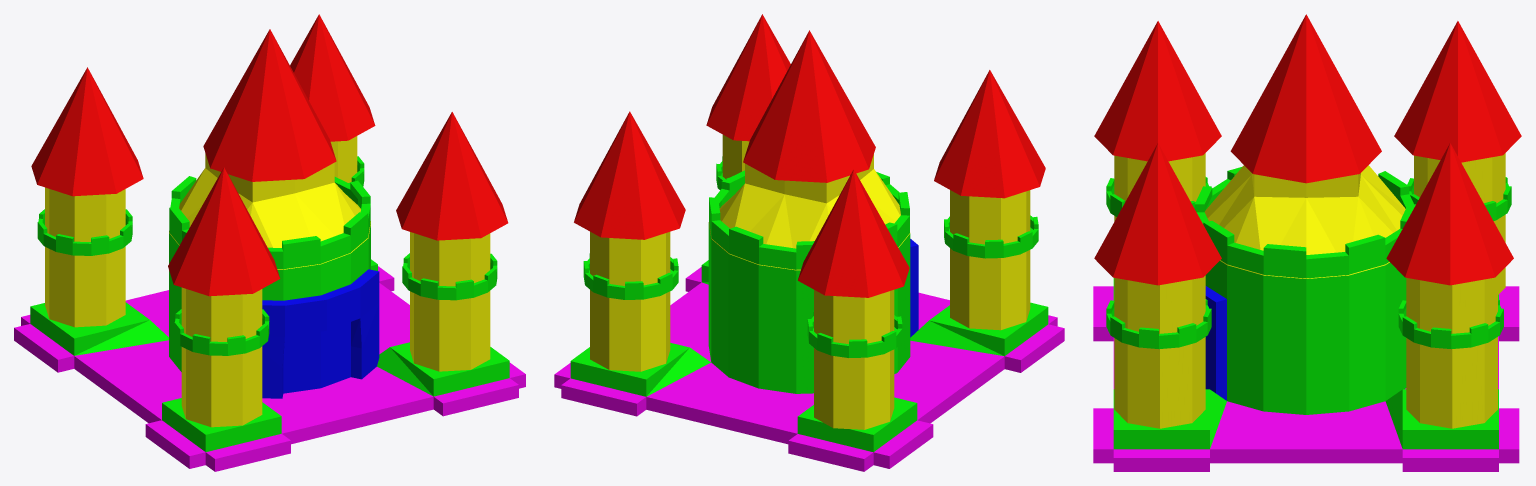
File: CastleV1.fbx
3 renders of one model, left to right at view 1: azimuth 30°, elevation 25°; view 2: azimuth 150°, elevation 25°; view 3: azimuth 270°, elevation 25°, orthographic. The views are drawn at different scales.
Visible parts, largest first — view 1: CastleV1; view 2: CastleV1; view 3: CastleV1.
Part boxes in pixels (box(x1,y1,x2,y2)): CastleV1: box(14, 14, 525, 471); CastleV1: box(554, 14, 1064, 471); CastleV1: box(1093, 14, 1521, 471).
Bounding box in the file's own units: 6.67 × 6.36 × 6.71.
